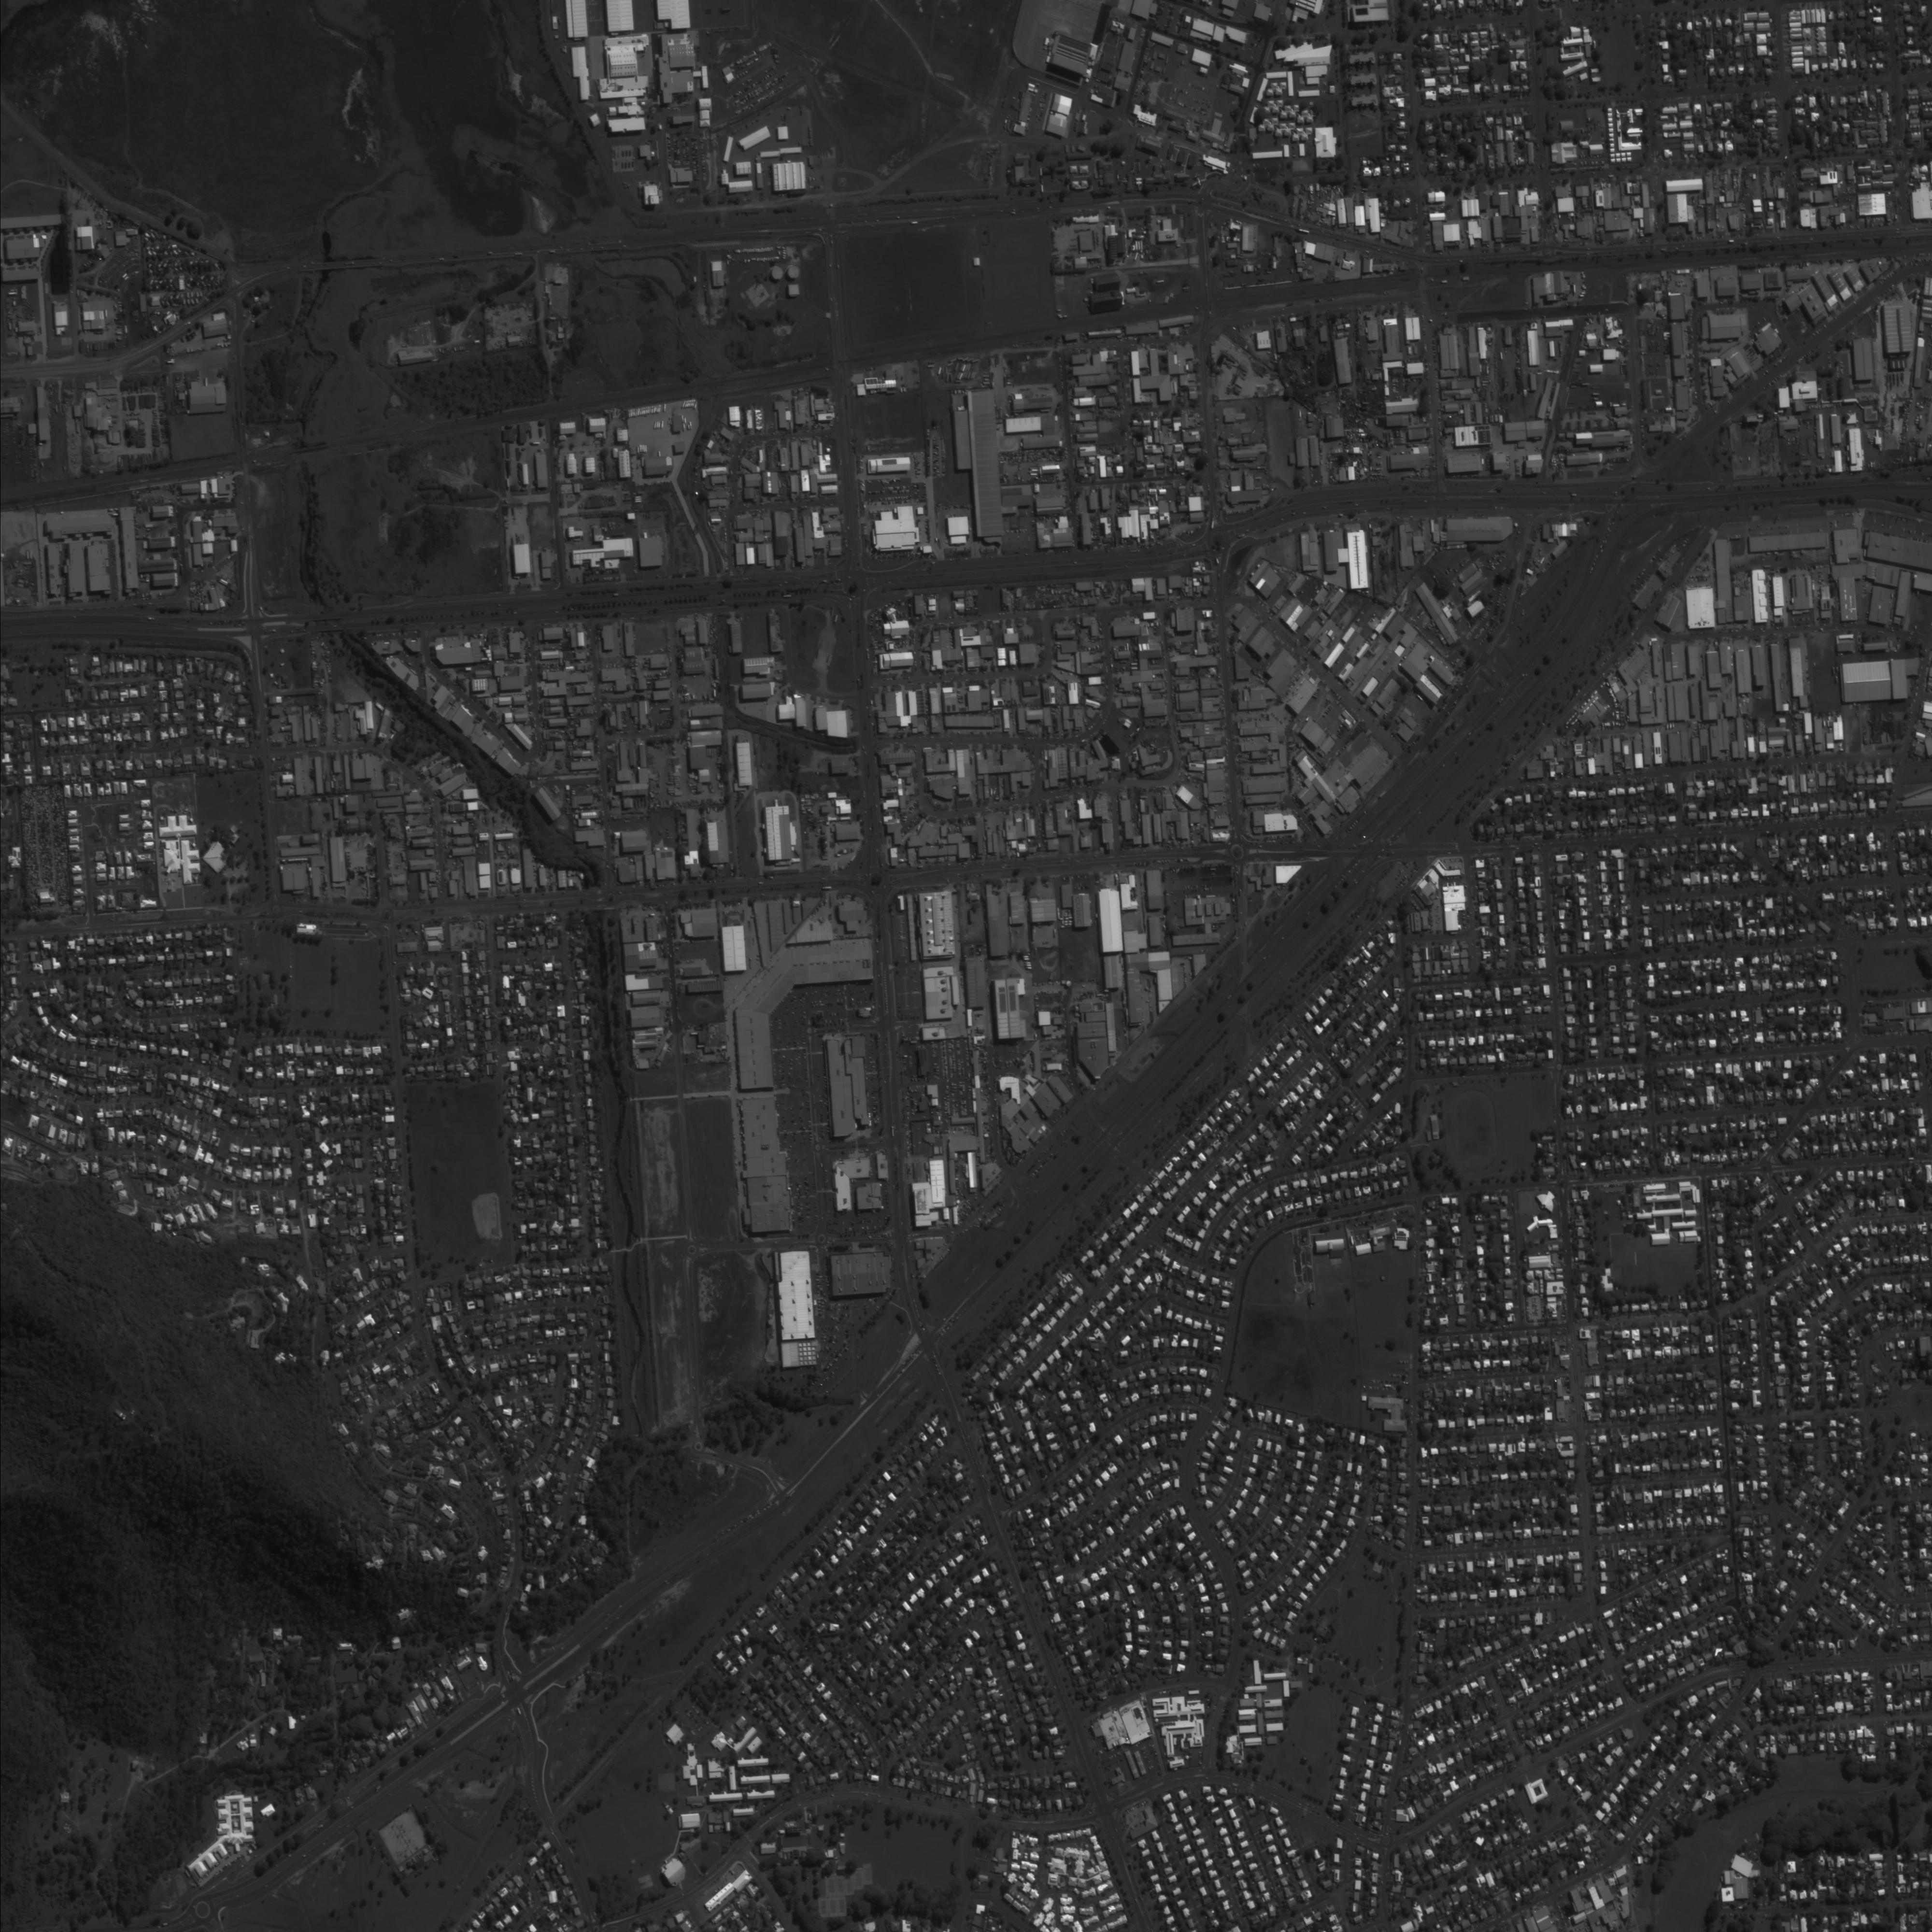plane: (1185, 170, 1210, 193)
